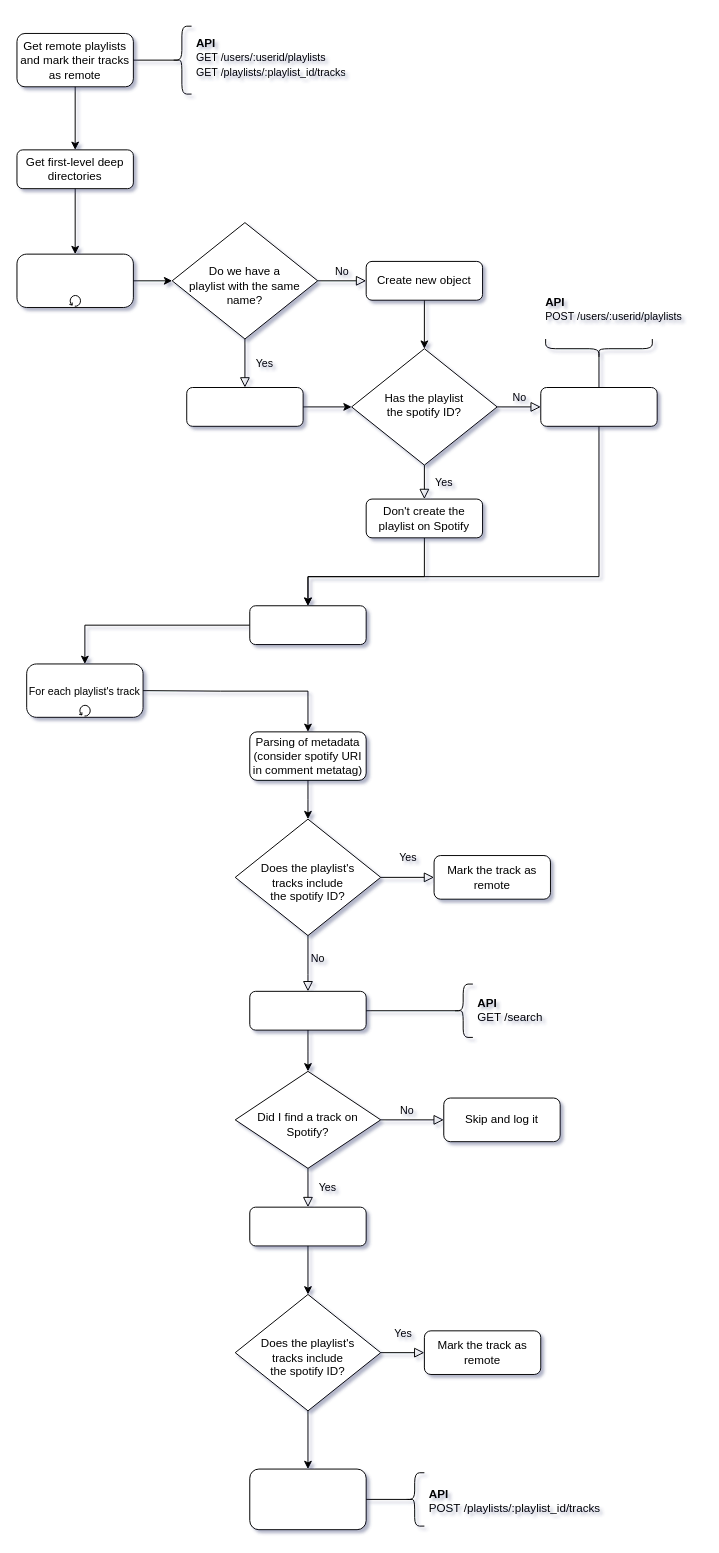
This 719x1553 diagram has some shape labels left out. Each missing label, with the box of its shape:
Add it to the playlist: (249, 1206, 366, 1246)
Add tracks with Spotify URI and not marked as remote to spotify's playlist: (249, 1468, 366, 1530)
Collect tracks for each playlist: (249, 605, 366, 645)
Create the playlist on Spotify: (540, 387, 657, 426)
For each directory: (16, 253, 133, 307)
Reuse playlist object: (186, 387, 303, 426)
Search for it: (249, 990, 366, 1030)
